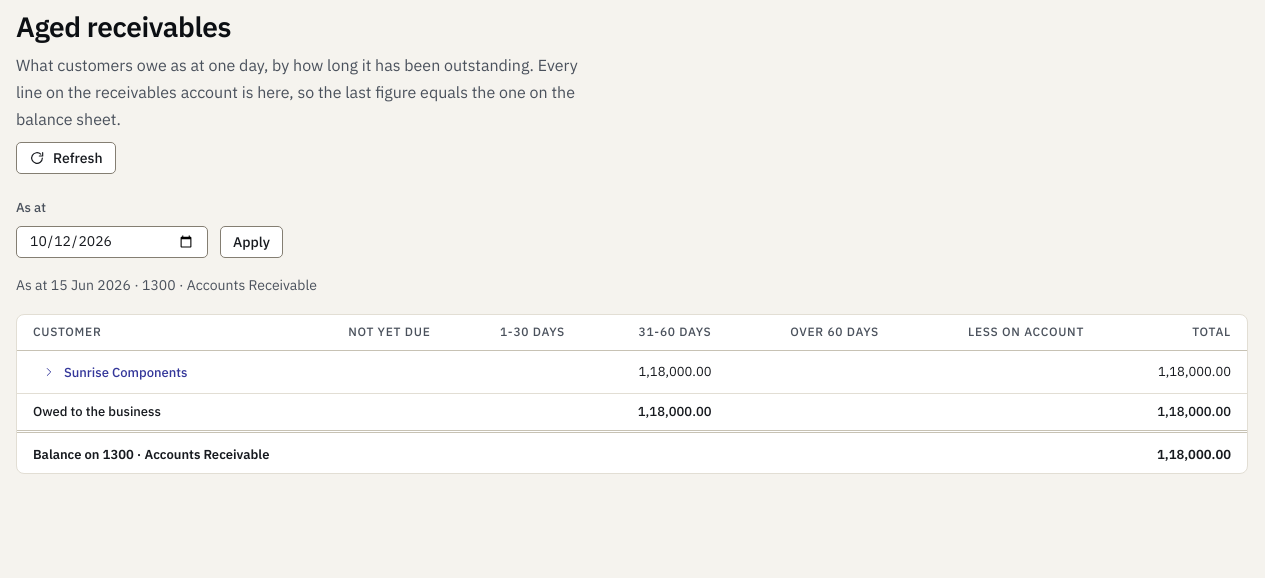
Test: a party opened up › leaves a journal entry as text rather than a dead link
Click the button "Sunrise Components". click: (115, 372)
box: [33,359,196,385]
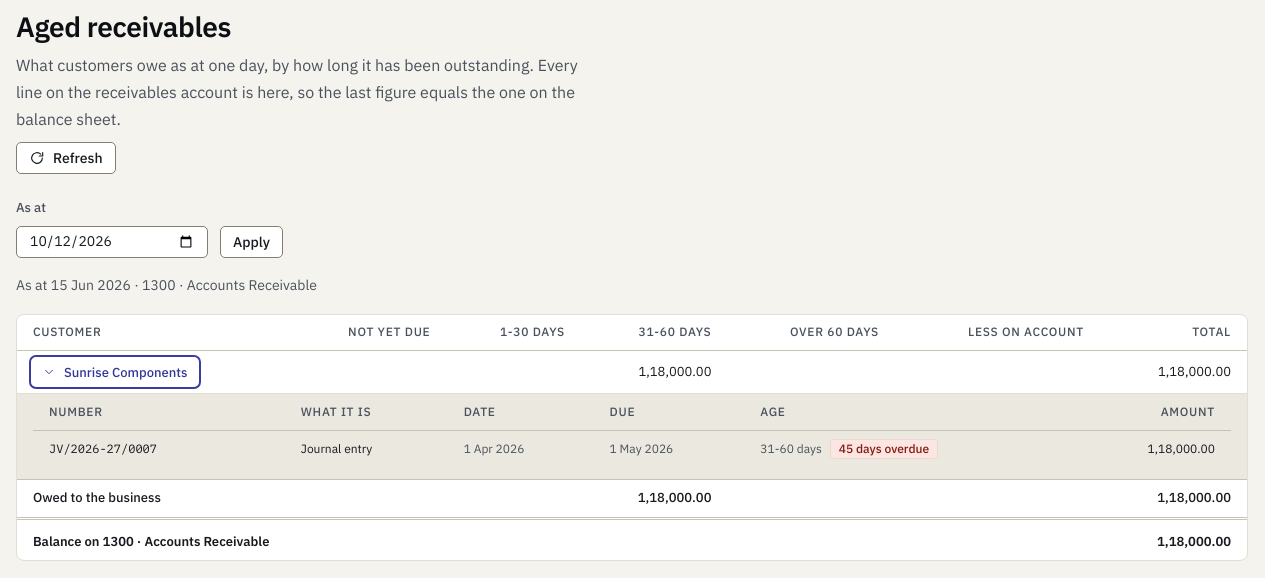
Now the text "JV/2026-27/0007" is shown, box [33,430,285,467]
Now the text "Journal entry" is shown, box [285,430,448,467]
